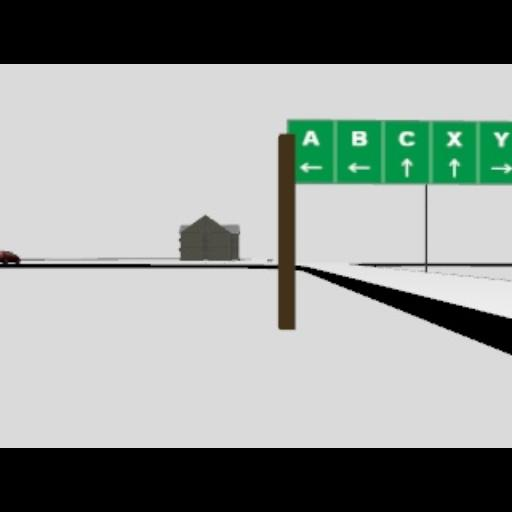A: (302, 130, 320, 148)
B: (351, 130, 369, 146)
C: (396, 130, 416, 148)
Left: (298, 162, 324, 174), (346, 162, 370, 174)
Right: (490, 162, 512, 174)
Straight: (400, 158, 414, 178), (449, 158, 461, 178)
X: (446, 130, 462, 148)
Y: (493, 130, 511, 148)
